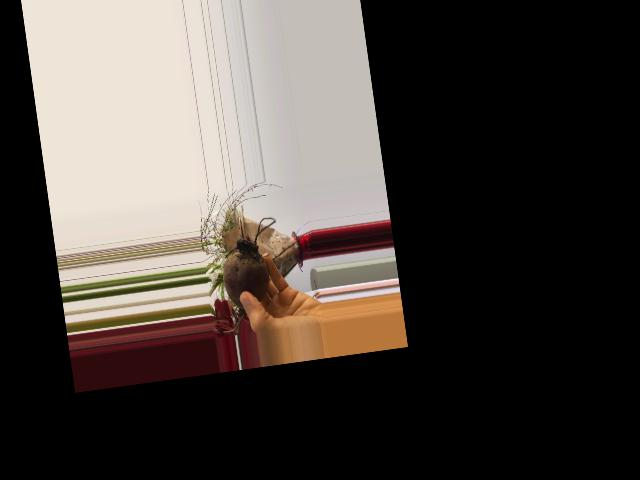beet: (209, 216, 289, 332)
